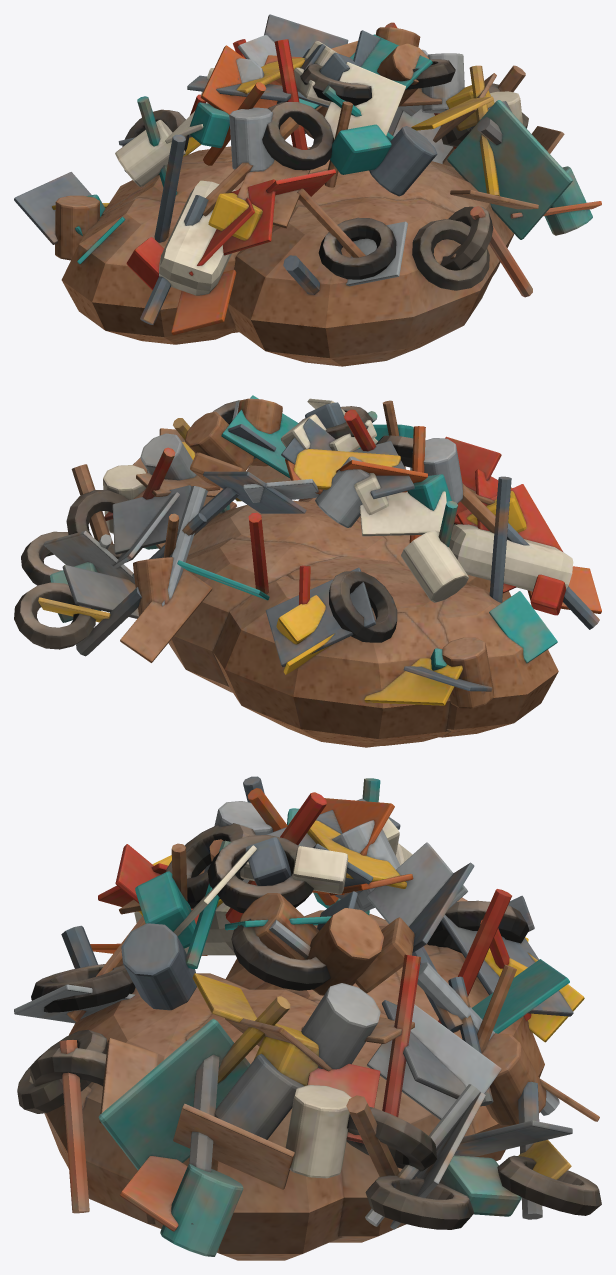
File: scrap_mountain.glb
The picture shows the model from 3 angles, top to bottom: view 1: azimuth 30°, elevation 25°; view 2: azimuth 150°, elevation 25°; view 3: azimuth 270°, elevation 25°; orthographic projection. The views are drawn at different scales.
Parts seen in each view (by area): view 1: ScrapMountain_Mesh; view 2: ScrapMountain_Mesh; view 3: ScrapMountain_Mesh.
Part boxes in pixels (left/top/right/bottom): ScrapMountain_Mesh: left=14, top=14, right=601, bottom=366; ScrapMountain_Mesh: left=14, top=395, right=601, bottom=747; ScrapMountain_Mesh: left=14, top=776, right=601, bottom=1260.
Bounding box in the file's own units: 4.93 × 2.82 × 3.81.
1 material, 1 textured.
